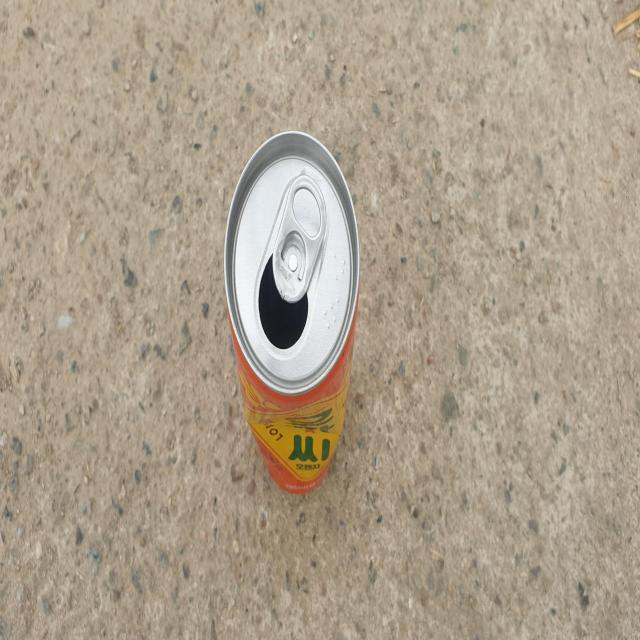can: (224, 131, 360, 494)
